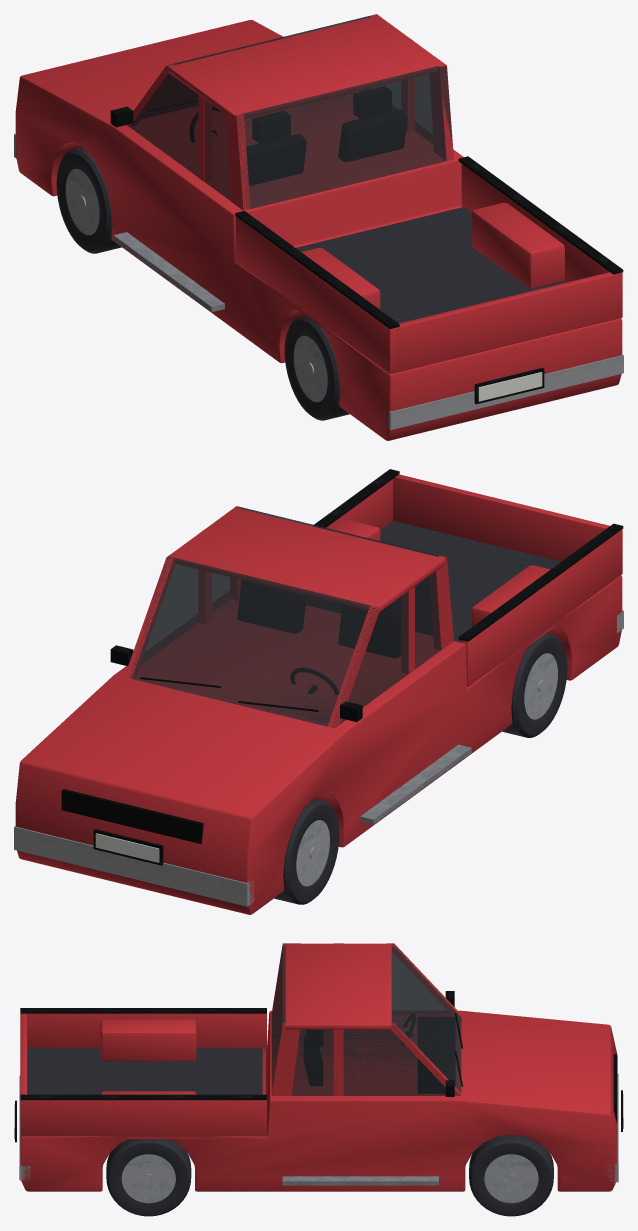
Rendered from pickup_red.gltf.
3 renders of one model, top to bottom at view 1: azimuth 30°, elevation 25°; view 2: azimuth 150°, elevation 25°; view 3: azimuth 270°, elevation 25°, orthographic. The views are drawn at different scales.
Parts seen in each view (by area): view 1: pickup_red; view 2: pickup_red; view 3: pickup_red.
Part boxes in pixels (box(x1,y1,x2,y2)): pickup_red: box(14, 14, 623, 440); pickup_red: box(14, 469, 623, 914); pickup_red: box(14, 943, 623, 1216).
Bounding box in the file's own units: 2.14 × 1.86 × 5.47.
Materials: 19 (11 with a texture image).
